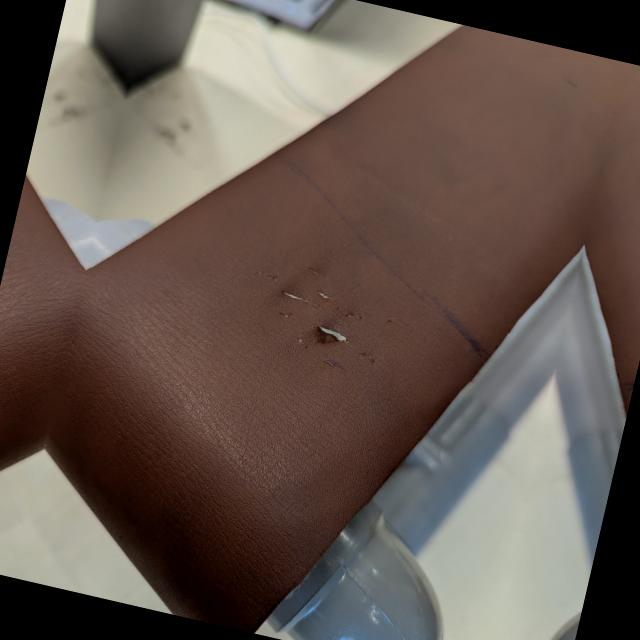belt_crack: (222, 223, 433, 388)
